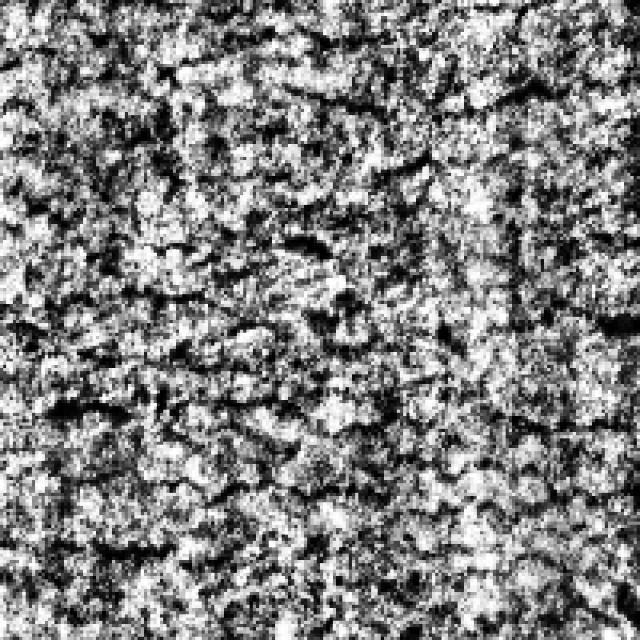Pitted_Surface: (3, 3, 614, 618)
